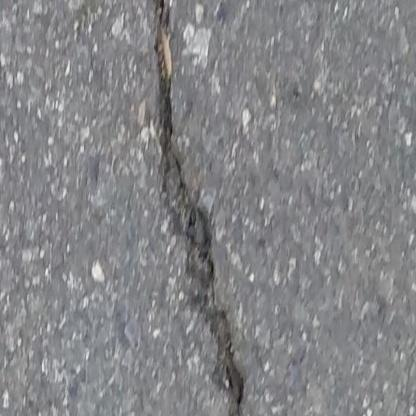Cracks: (145, 0, 253, 416)
